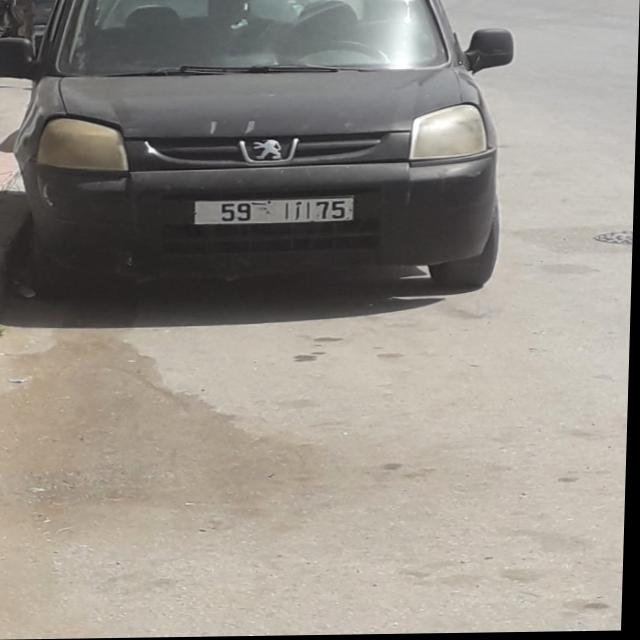License-Plate: (195, 199, 355, 225)
